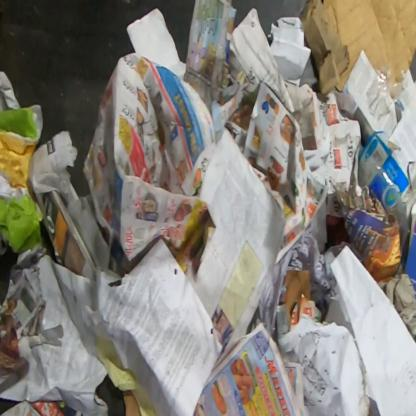cardboard: (299, 0, 415, 96), (0, 106, 44, 254), (334, 188, 401, 284), (358, 132, 410, 219), (280, 270, 310, 326), (402, 199, 416, 304), (122, 388, 141, 415)
rigid_plastic: (365, 53, 409, 124)
soft_plastic: (363, 154, 409, 256)
